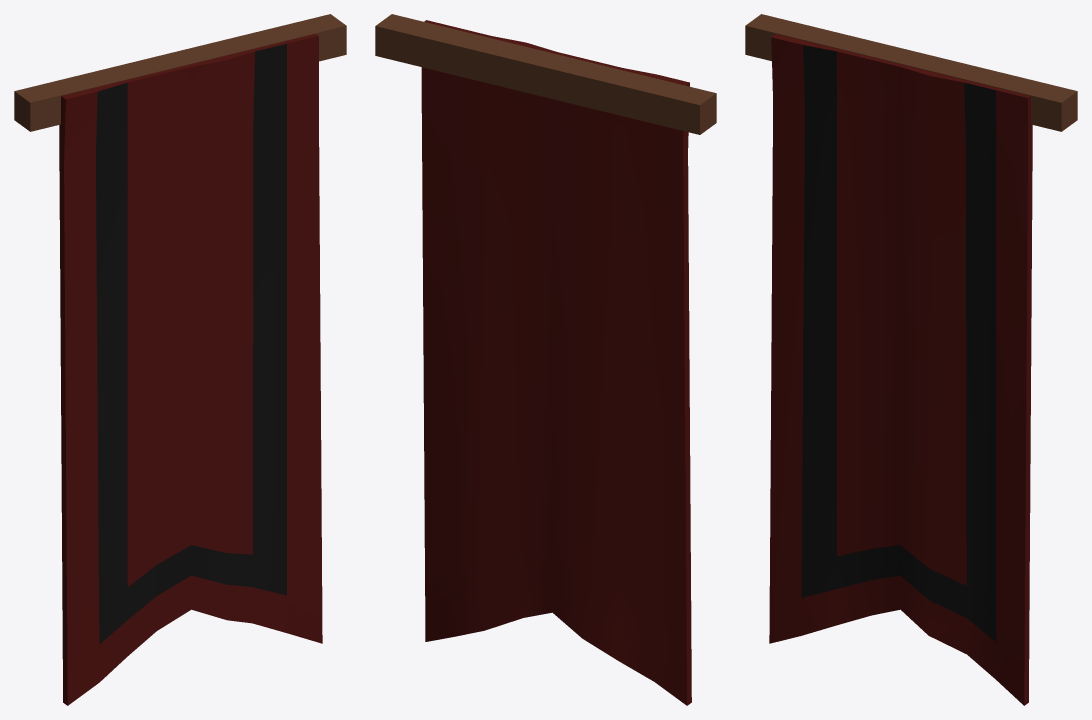
The model's file is banner.fbx.
3 views of the same model, side by side, from view 1: azimuth 30°, elevation 25°; view 2: azimuth 150°, elevation 25°; view 3: azimuth 330°, elevation 25° (orthographic). The views are drawn at different scales.
Parts seen in each view (by area): view 1: Banner; view 2: Banner; view 3: Banner.
Boxes of the visible parts, x1,y1,x2,y2 form: Banner: (14,14,346,705); Banner: (375,14,716,705); Banner: (745,14,1077,705).
Size of the model in its own units: 62.04 by 7.7 by 114.
